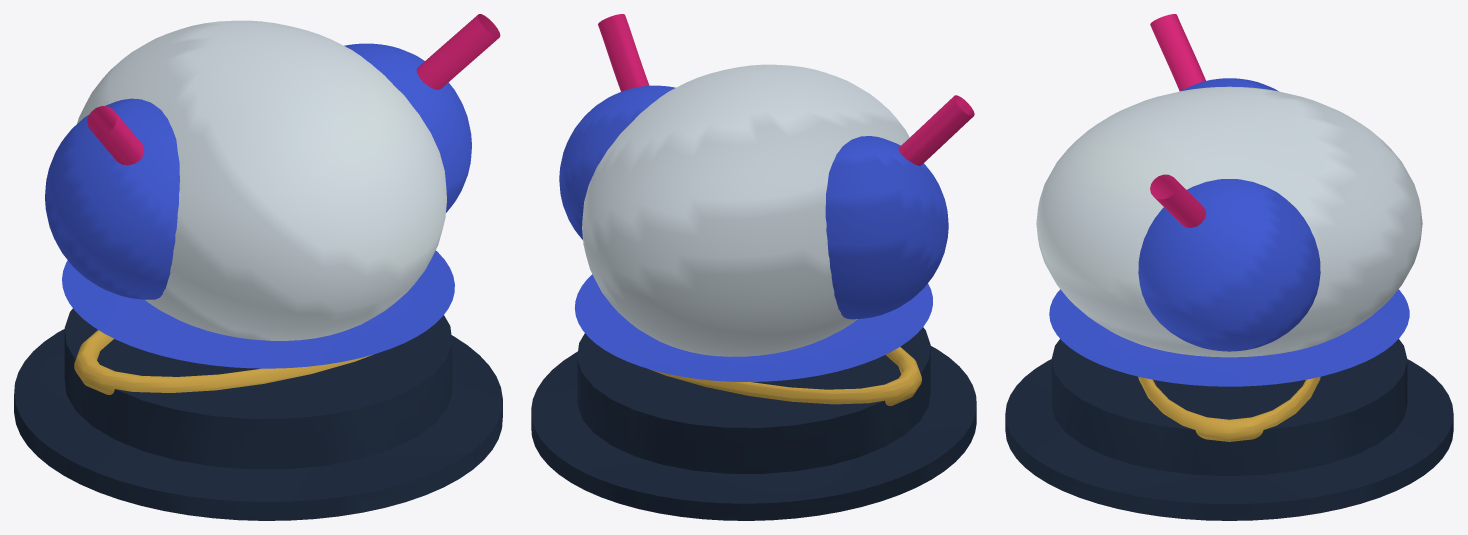
Rendered from 0177_人体图鉴_切牙.glb.
The picture shows the model from 3 angles, left to right: view 1: azimuth 30°, elevation 25°; view 2: azimuth 150°, elevation 25°; view 3: azimuth 270°, elevation 25°; orthographic projection. The views are drawn at different scales.
Visible parts, largest first — view 1: card_0177; view 2: card_0177; view 3: card_0177.
Boxes of the visible parts, x1,y1,x2,y2 form: card_0177: [14, 14, 502, 520]; card_0177: [531, 14, 976, 520]; card_0177: [1005, 14, 1453, 520].
Size of the model in its own units: 1.15 by 1 by 1.21.
